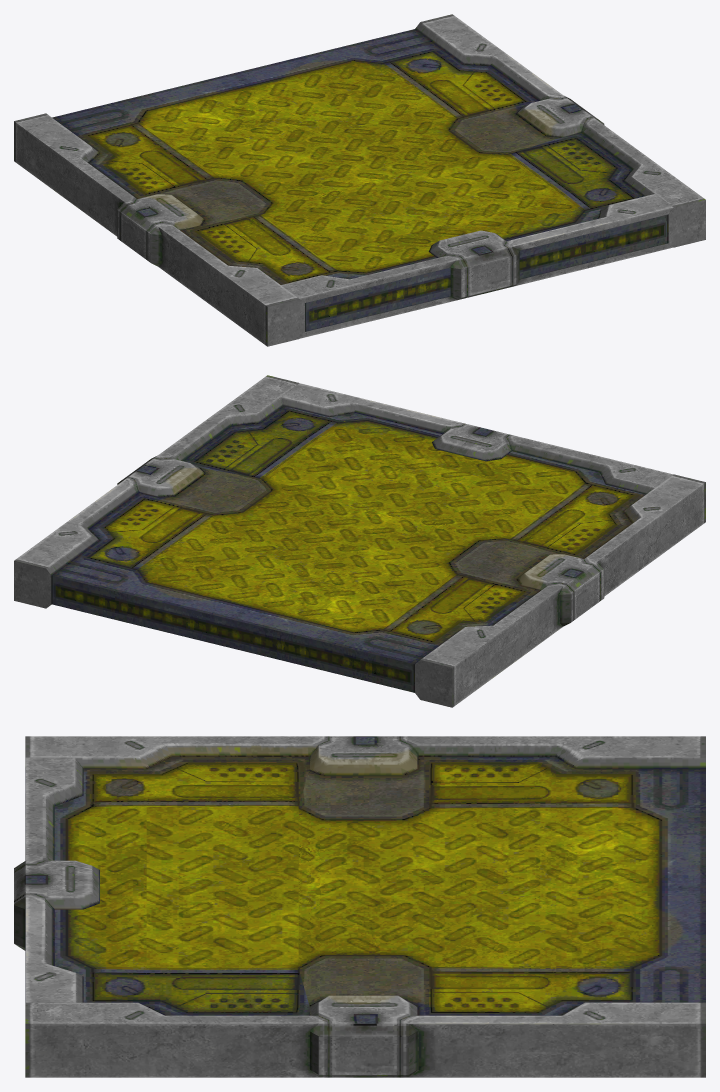
The model's file is catwalk_end_nohandrail.dae.
3 renders of one model, top to bottom at view 1: azimuth 30°, elevation 25°; view 2: azimuth 150°, elevation 25°; view 3: azimuth 270°, elevation 25°, orthographic. The views are drawn at different scales.
Parts seen in each view (by area): view 1: polySurface101; view 2: polySurface101; view 3: polySurface101.
Boxes of the visible parts, <box> form: polySurface101: <box>14,14,705,346</box>; polySurface101: <box>14,375,705,707</box>; polySurface101: <box>14,736,705,1077</box>.
Bounding box in the file's own units: 2.07 × 0.1745 × 2.04.
